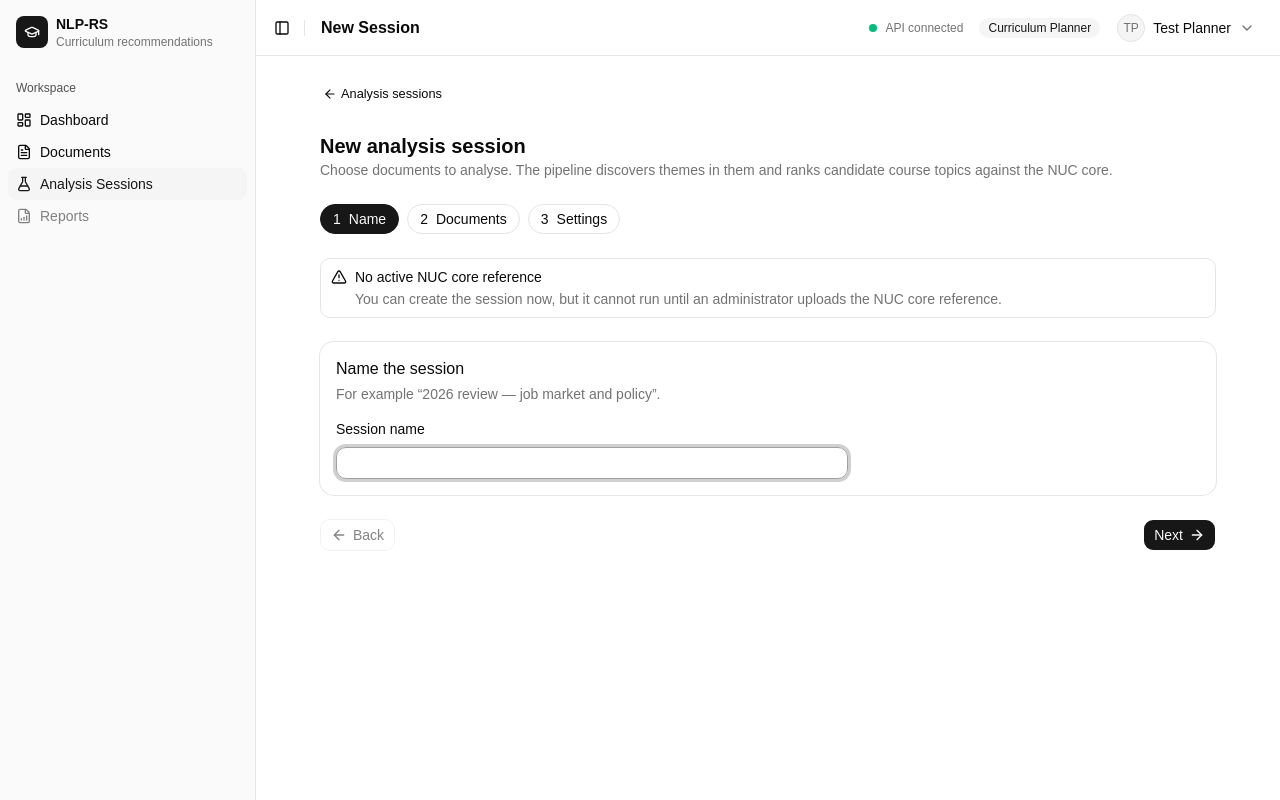
Scenario: NewSessionPage › warns when there is no active NUC core and only allows Create
expect the text "No active NUC core reference" is shown: met, box [355, 269, 542, 285]
Step 1. Type "Synthetic review" into the field labelled "Session name" → point(592, 463), box [336, 447, 848, 479]
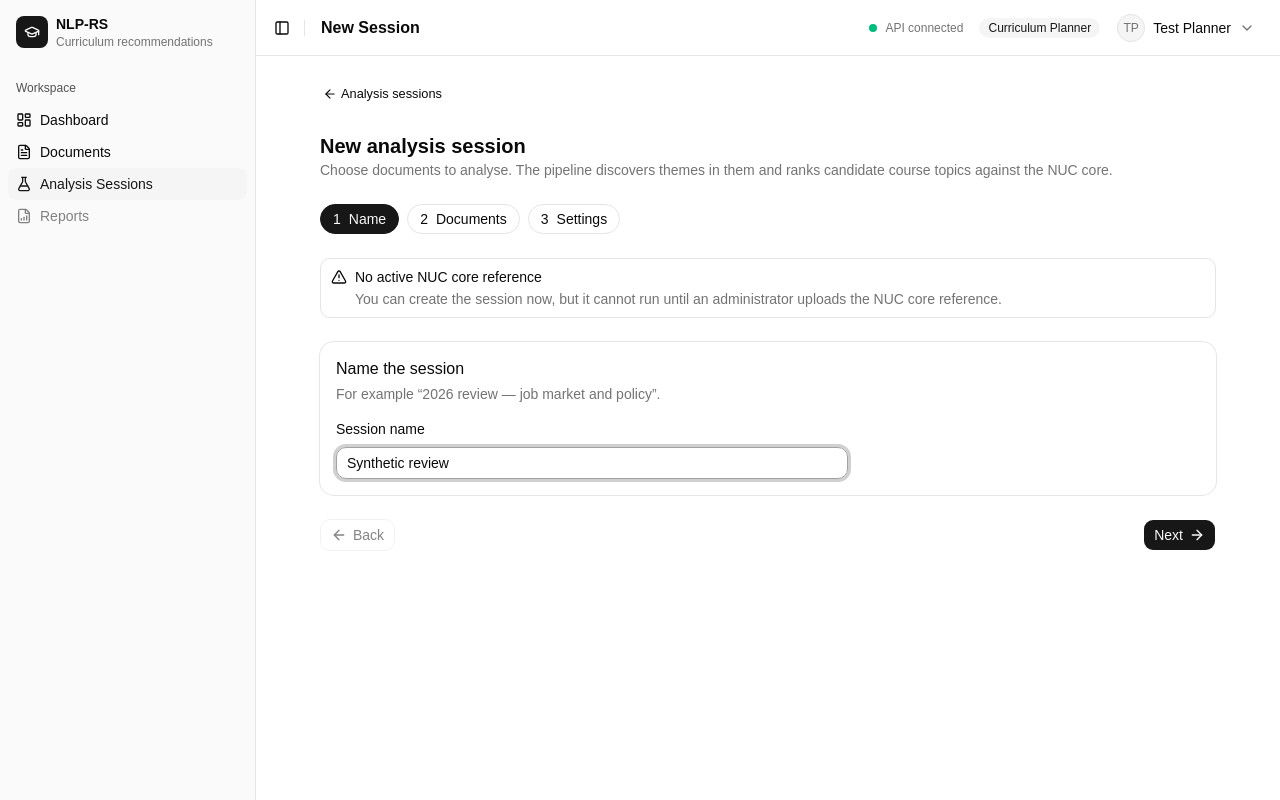
Step 2. Click the button "Next" → point(1180, 535), box [1143, 519, 1216, 551]
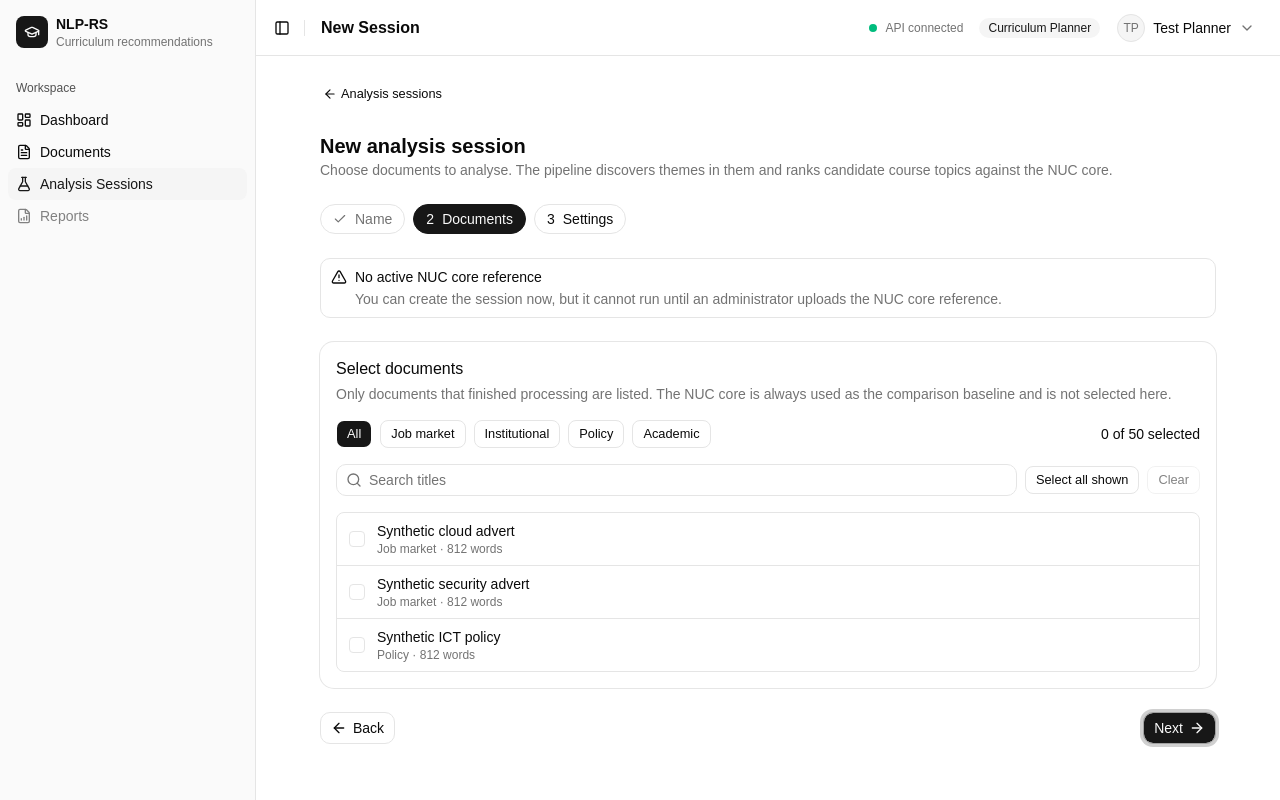
Step 3. Click the checkbox named "Synthetic cloud advert" next to "Synthetic cloud advert" → point(357, 539), box [349, 531, 365, 547]
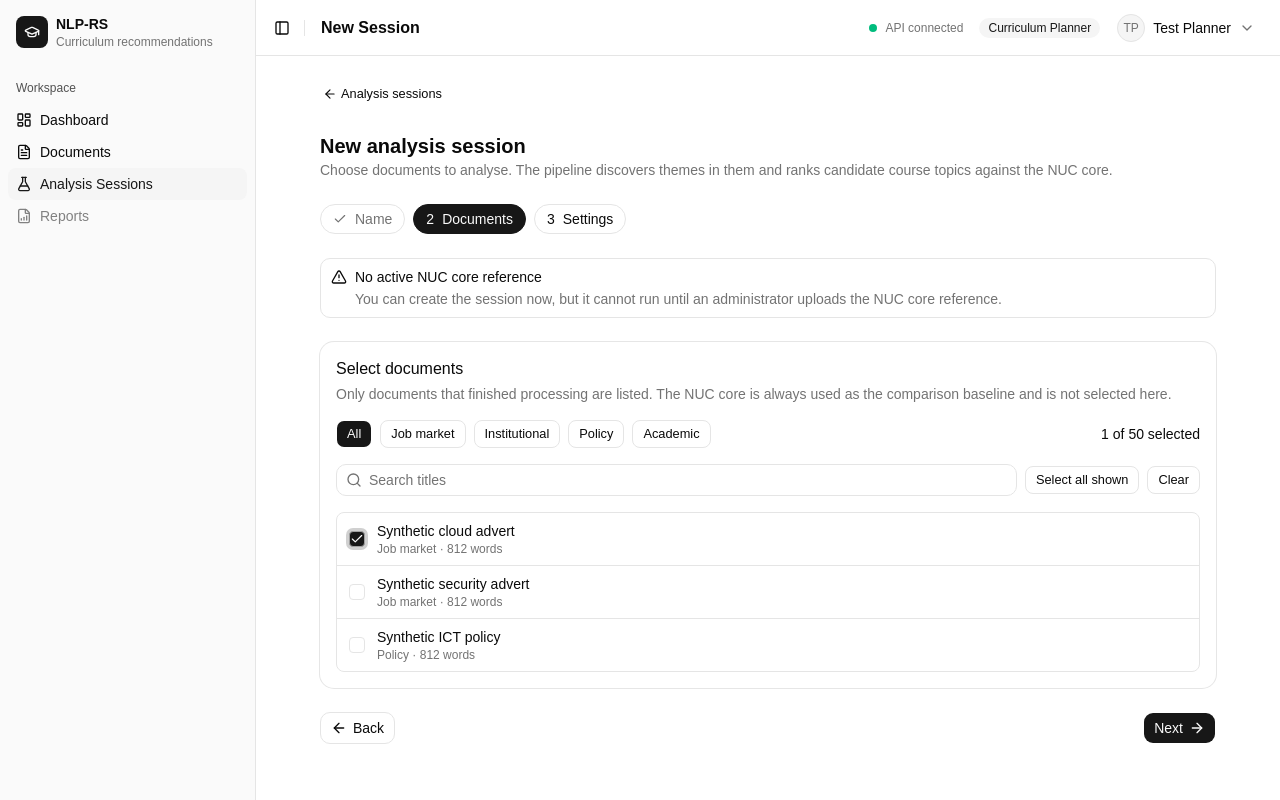
Step 4. Click the checkbox named "Synthetic ICT policy" next to "Synthetic ICT policy" → point(357, 645), box [349, 637, 365, 653]
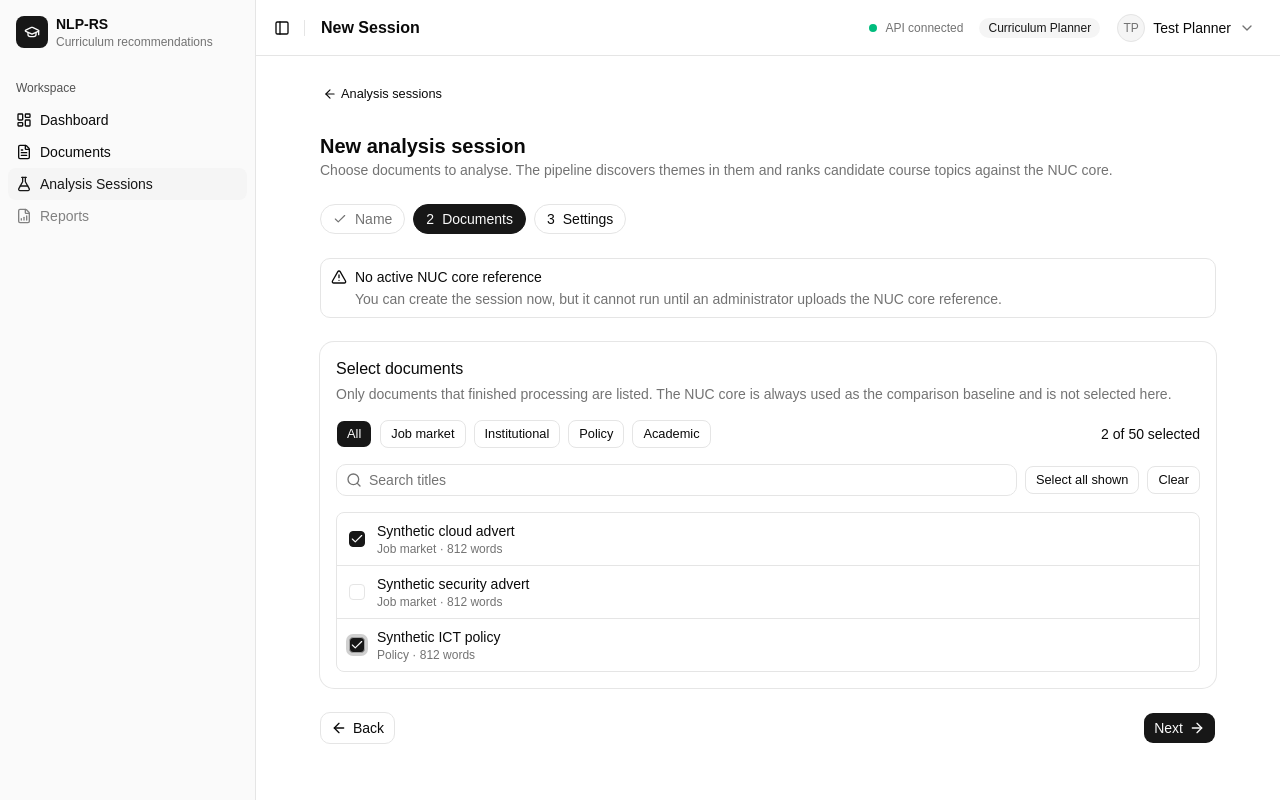
expect the text "2 of 50 selected" is shown: met, box [1101, 424, 1200, 444]
Step 5. Click the button "Next" → point(1180, 728), box [1143, 712, 1216, 744]
(page scrolled)
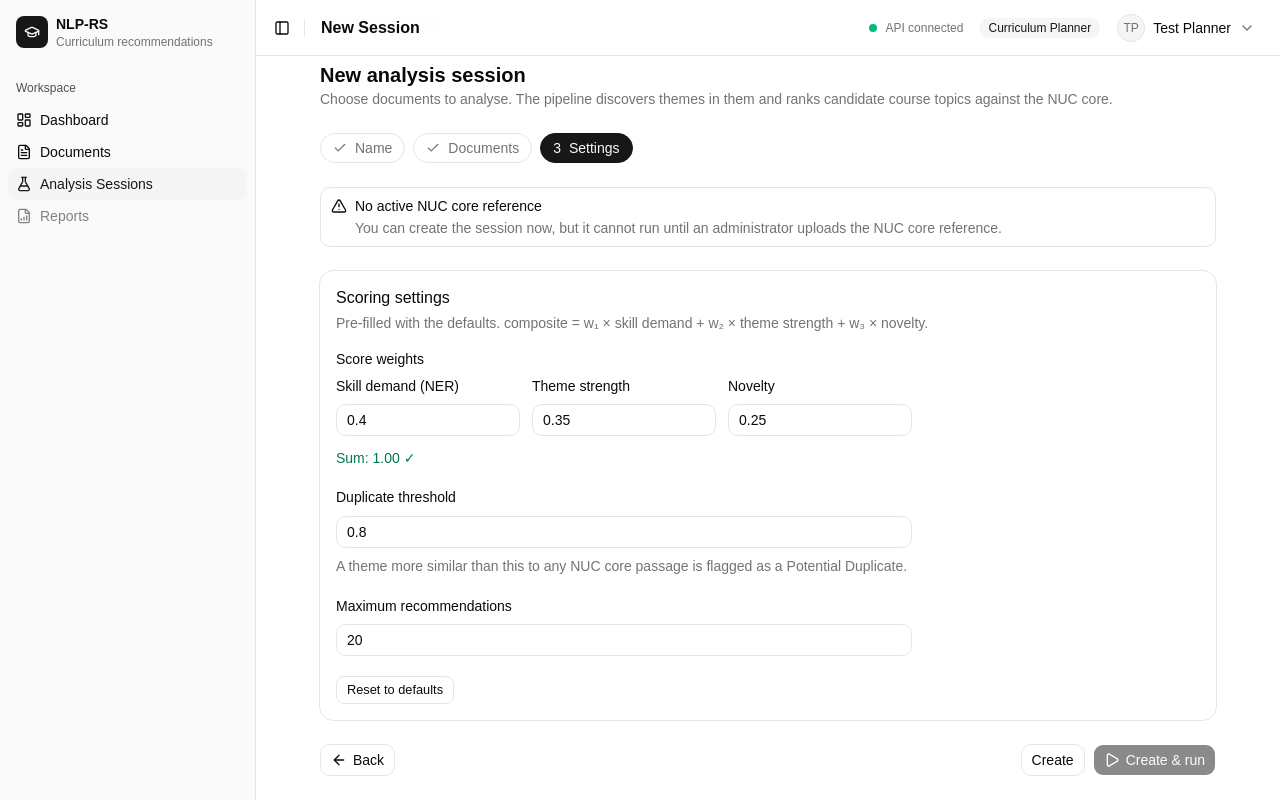
expect the button "Create & run" is disabled: met, box [1093, 744, 1216, 776]
expect the button "Create" is enabled: met, box [1021, 744, 1085, 776]
